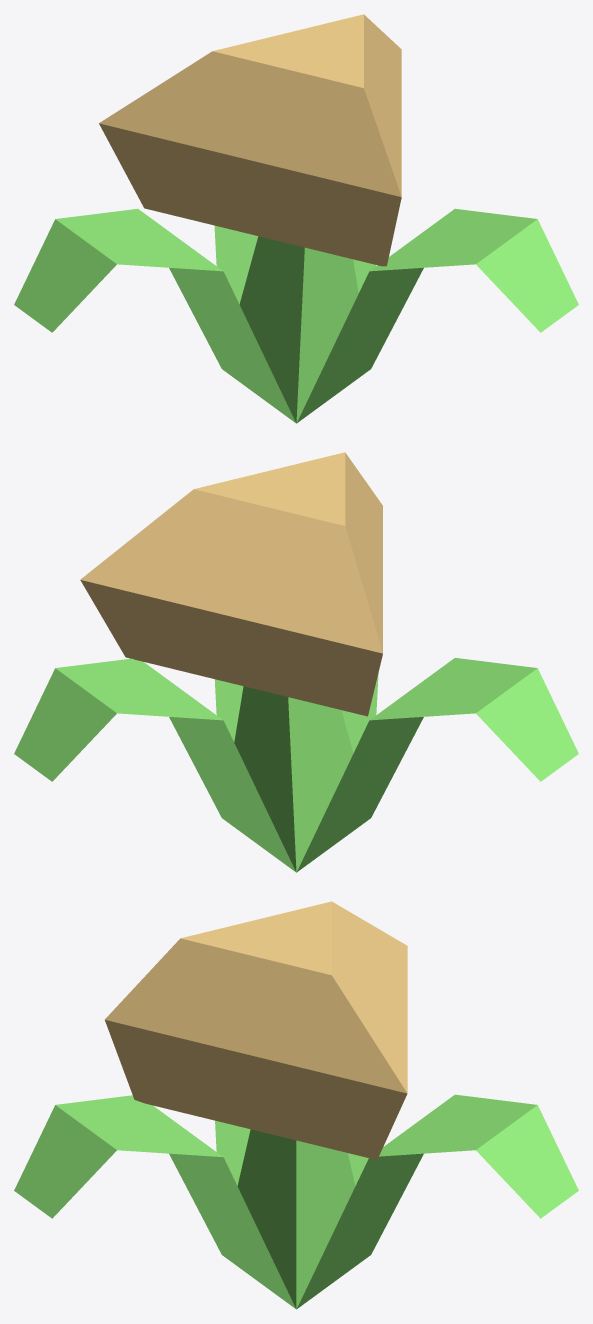
Rendered from flower_yellowB.glb.
3 renders of one model, top to bottom at view 1: azimuth 30°, elevation 25°; view 2: azimuth 150°, elevation 25°; view 3: azimuth 270°, elevation 25°, orthographic.
Parts seen in each view (by area): view 1: flower_yellowB; view 2: flower_yellowB; view 3: flower_yellowB.
Part boxes in pixels (x1,y1,x2,y2): flower_yellowB: [14, 14, 578, 423]; flower_yellowB: [14, 452, 578, 872]; flower_yellowB: [14, 901, 578, 1309].
Bounding box in the file's own units: 0.2073 × 0.1585 × 0.2392.
